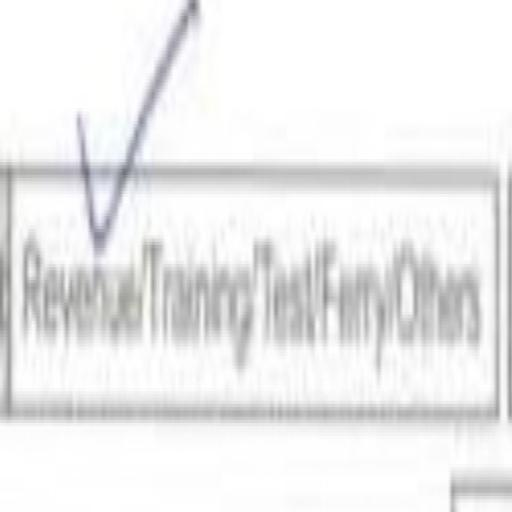check: (0, 30, 148, 464)
